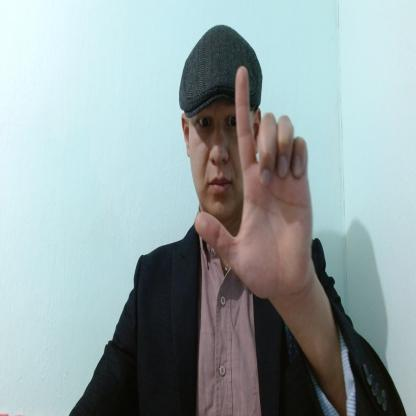L: (194, 65, 312, 298)
